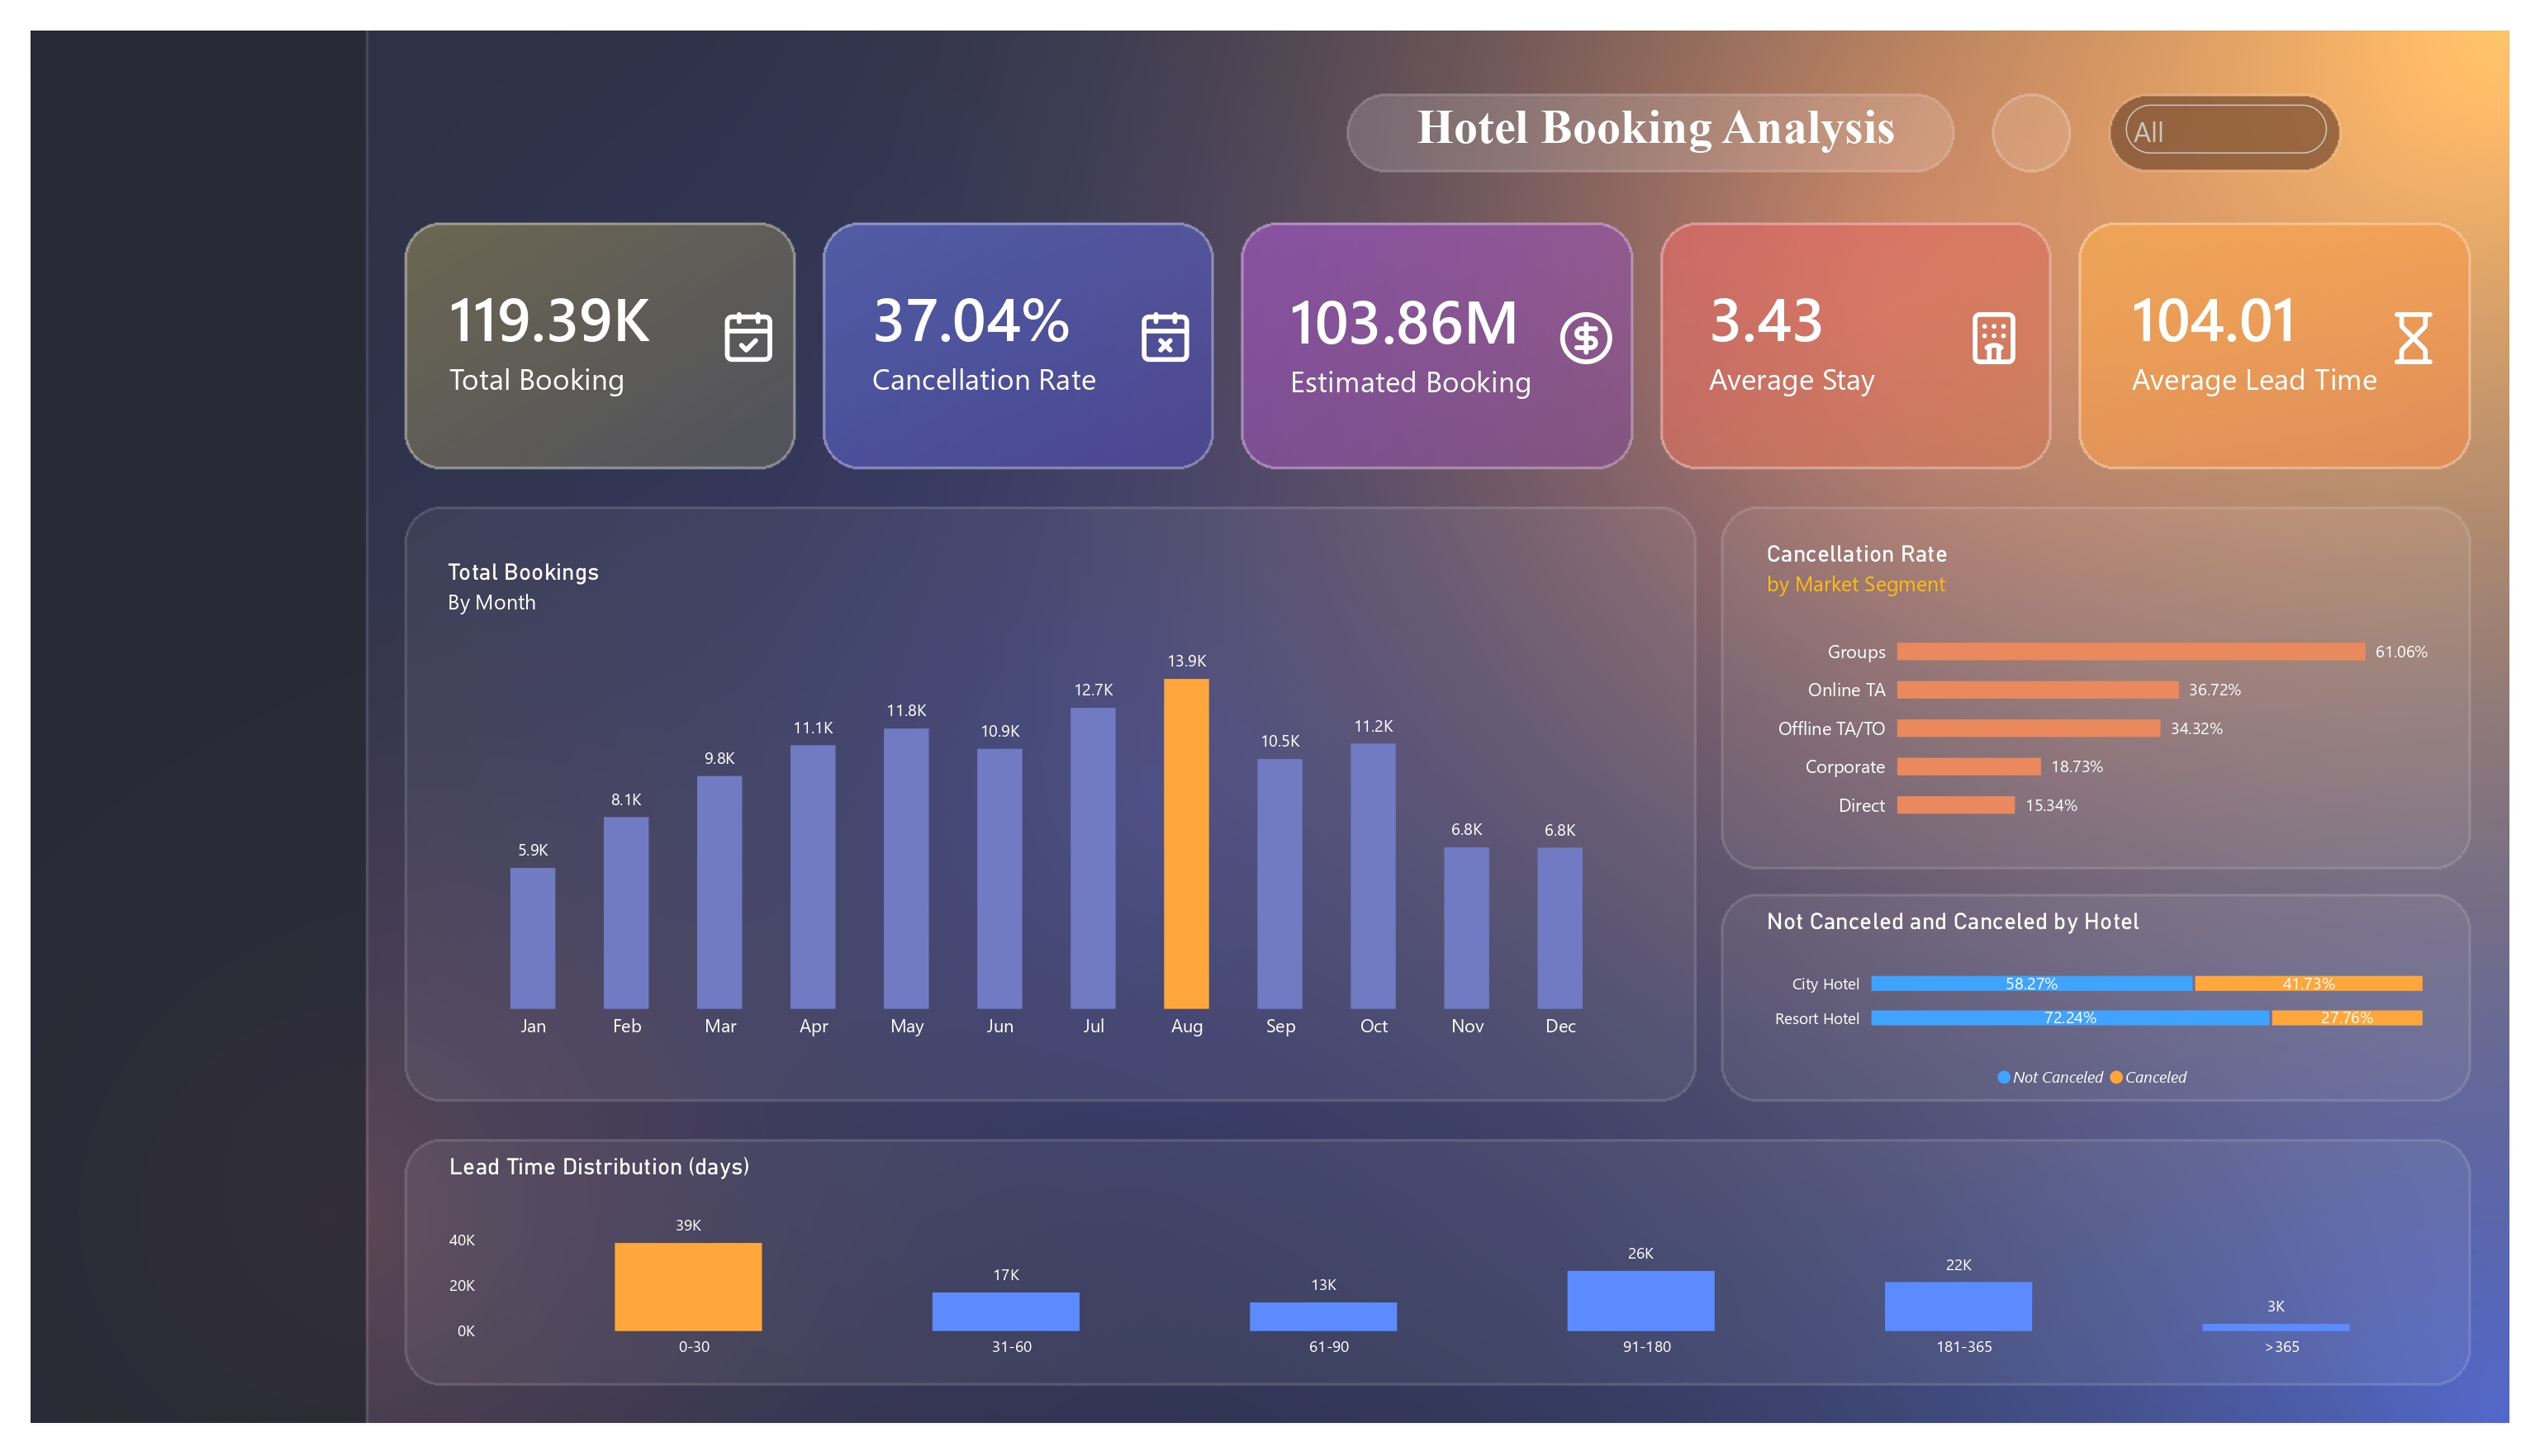

What the dashboard file says about the page in this screenshot:
{"tool":"powerbi","page":{"name":"Page 1","canvas":[1920,1080],"ordinal":0},"visuals":[{"type":"cardVisual","fields":{"Data":["CountNonNull(Tabel1.is_canceled)"]},"box":[307.5,162.5,260,150],"z":0},{"type":"cardVisual","fields":{"Data":["Avg(Tabel1.is_canceled)"]},"box":[636.2,162.6,266.3,150.8],"z":1000},{"type":"cardVisual","fields":{"Data":["Tabel1.Estimated Booking Value"]},"box":[960,164.3,266.3,150.8],"z":2000},{"type":"cardVisual","fields":{"Data":["Sum(Tabel5.Mean)"]},"box":[1284.2,162.6,259.2,150.8],"z":3000},{"type":"cardVisual","fields":{"Data":["Sum(Tabel5.Mean)"]},"box":[1611.8,162.6,266.3,150.8],"z":4000},{"type":"clusteredColumnChart","title":"Total Bookings","fields":{"Category":["Tabel10.Bulan"],"Y":["Sum(Tabel10.Jumlah Booking)"]},"box":[306.7,394.4,961.4,407.7],"z":5000},{"type":"clusteredBarChart","title":"Cancellation Rate","fields":{"Category":["Tabel9.Market Segmen"],"Y":["Sum(Tabel9.Cancellion Rate)"]},"box":[1328.8,380,548.8,256.2],"z":6000},{"type":"hundredPercentStackedBarChart","fields":{"Category":["Tabel4.Hotel"],"Y":["Sum(Tabel4.Tidak Dibatalkan)","Sum(Tabel4.Dibatalkan)"]},"box":[1328.6,678.6,540,165.7],"z":7000},{"type":"clusteredColumnChart","title":"Lead Time Distribution (days)","fields":{"Category":["Tabel1.Lead Time Range"],"Y":["CountNonNull(Tabel1.lead_time)"]},"box":[307.5,855,1612.5,192.5],"z":8000},{"type":"textbox","box":[1055,52.5,407.5,55],"z":9000},{"type":"slicer","fields":{"Values":["Tabel1.hotel"]},"box":[1618,52,166,56],"z":10000},{"type":"image","box":[534.3,215.7,44,44],"z":11000},{"type":"image","box":[857.1,215.7,44,44],"z":12000},{"type":"image","box":[1182.9,215.7,44,44],"z":13000},{"type":"image","box":[1498.6,215.7,44,44],"z":14000},{"type":"image","box":[1824.3,215.7,44,44],"z":14001}]}

Visuals, with their boxes on the page's 1920x1080 design canvas (x1, y1, x2, y2). These are canvas units, not pixel positions in the 2540x1456 screenshot, which may show the page scaled, cropped or inside an application window:
cardVisual - CountNonNull(Tabel1.is_canceled): {"left": 308, "top": 162, "right": 568, "bottom": 312}
cardVisual - Avg(Tabel1.is_canceled): {"left": 636, "top": 163, "right": 902, "bottom": 313}
cardVisual - Tabel1.Estimated Booking Value: {"left": 960, "top": 164, "right": 1226, "bottom": 315}
cardVisual - Sum(Tabel5.Mean): {"left": 1284, "top": 163, "right": 1543, "bottom": 313}
cardVisual - Sum(Tabel5.Mean): {"left": 1612, "top": 163, "right": 1878, "bottom": 313}
"Total Bookings" clusteredColumnChart: {"left": 307, "top": 394, "right": 1268, "bottom": 802}
"Cancellation Rate" clusteredBarChart: {"left": 1329, "top": 380, "right": 1878, "bottom": 636}
hundredPercentStackedBarChart - Tabel4.Hotel x Sum(Tabel4.Tidak Dibatalkan): {"left": 1329, "top": 679, "right": 1869, "bottom": 844}
"Lead Time Distribution (days)" clusteredColumnChart: {"left": 308, "top": 855, "right": 1920, "bottom": 1048}
textbox: {"left": 1055, "top": 52, "right": 1462, "bottom": 108}
slicer - Tabel1.hotel: {"left": 1618, "top": 52, "right": 1784, "bottom": 108}
image: {"left": 534, "top": 216, "right": 578, "bottom": 260}
image: {"left": 857, "top": 216, "right": 901, "bottom": 260}
image: {"left": 1183, "top": 216, "right": 1227, "bottom": 260}
image: {"left": 1499, "top": 216, "right": 1543, "bottom": 260}
image: {"left": 1824, "top": 216, "right": 1868, "bottom": 260}
